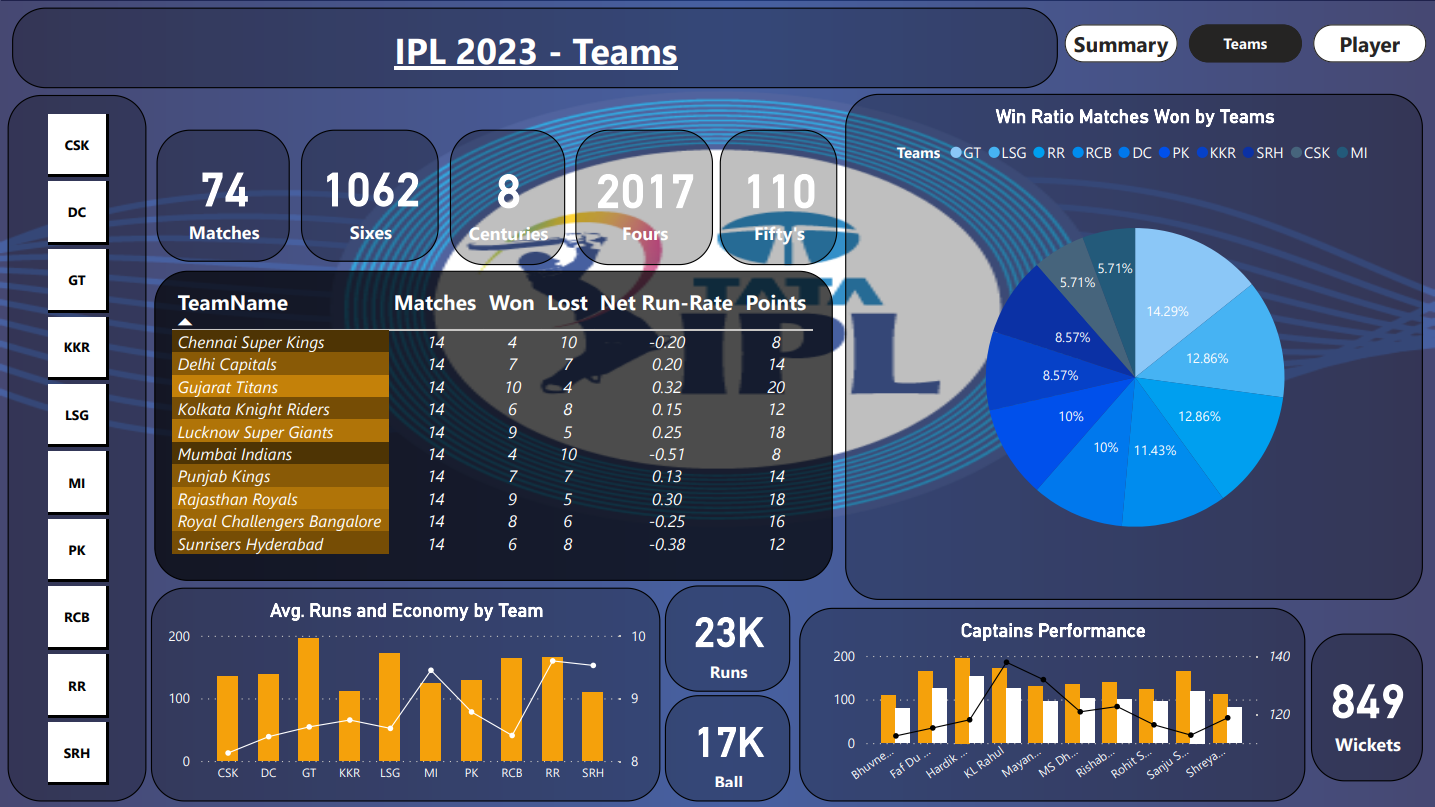

The dashboard page shown, as its layout file describes it:
{"tool":"powerbi","page":{"name":"Teams","canvas":[1280,720],"ordinal":1},"visuals":[{"type":"slicer","fields":{"Values":["16Team.ShortName"]},"box":[6,84.4,124.2,630.8],"z":0},{"type":"card","fields":{"Values":["04BattingSummary.MatchID"]},"box":[139.4,114.9,118.6,118.6],"z":1000},{"type":"card","fields":{"Values":["06BattingStats.Runs"]},"box":[592.9,522,112.5,95.3],"z":2000},{"type":"card","fields":{"Values":["10WicketStats.Wickets"]},"box":[1169.8,564.8,100.2,132],"z":3000},{"type":"card","fields":{"Values":["11RunsStats.6S"]},"box":[267.7,114.9,123.5,118.6],"z":4000},{"type":"card","fields":{"Values":["11RunsStats.4S"]},"box":[513.4,114.9,122.2,121],"z":5000},{"type":"card","fields":{"Values":["11RunsStats.100"]},"box":[401,114.9,102.7,121],"z":6000},{"type":"lineClusteredColumnComboChart","title":"Avg. Runs and Economy by Team","fields":{"Category":["16Team.ShortName"],"Y":["06BattingStats.Runs"],"Y2":["07BowlingStats.Economy"]},"box":[134.5,524.4,454.7,190.7],"z":7000},{"type":"lineClusteredColumnComboChart","title":"Captains Performance","fields":{"Category":["16Team.CaptionName"],"Y":["06BattingStats.Runs","06BattingStats.BallsFaced"],"Y2":["06BattingStats.StrikeRate"]},"box":[712.7,541.5,452.3,173.6],"z":8000},{"type":"pieChart","title":"Win Ratio Matches Won by Teams","fields":{"Category":["15Ranking.ShortName"],"Y":["15Ranking.MatchesWon"]},"box":[754.2,83.1,515.9,452.3],"z":9000},{"type":"tableEx","fields":{"Values":["16Team.TeamName","15Ranking.MatchesPlayed","15Ranking.MatchesWon","15Ranking.MatchesLost","15Ranking.NetRunRate","15Ranking.Points"]},"box":[136.9,240.8,606.3,277.5],"z":10000},{"type":"card","fields":{"Values":["11RunsStats.50"]},"box":[641.8,114.9,105.1,121],"z":11000},{"type":"textbox","box":[9.8,6.1,933.9,72.1],"z":12000},{"type":"card","fields":{"Values":["06BattingStats.BallsFaced"]},"box":[592.9,619.8,112.5,95.3],"z":13000},{"type":"pageNavigator","box":[949.8,20.8,325.2,34.2],"z":14000}]}

Visuals, with their boxes in screenshot pixels (x1, y1, x2, y2), scaled from the page's 1280x720 canvas onto the 1435x807 screenshot:
slicer - 16Team.ShortName: (7, 95, 146, 802)
card - 04BattingSummary.MatchID: (156, 129, 289, 262)
card - 06BattingStats.Runs: (665, 585, 791, 692)
card - 10WicketStats.Wickets: (1311, 633, 1424, 781)
card - 11RunsStats.6S: (300, 129, 439, 262)
card - 11RunsStats.4S: (576, 129, 713, 264)
card - 11RunsStats.100: (450, 129, 565, 264)
"Avg. Runs and Economy by Team" lineClusteredColumnComboChart: (151, 588, 661, 802)
"Captains Performance" lineClusteredColumnComboChart: (799, 607, 1306, 802)
"Win Ratio Matches Won by Teams" pieChart: (846, 93, 1424, 600)
tableEx - 16Team.TeamName x 15Ranking.MatchesPlayed: (153, 270, 833, 581)
card - 11RunsStats.50: (720, 129, 837, 264)
textbox: (11, 7, 1058, 88)
card - 06BattingStats.BallsFaced: (665, 695, 791, 802)
pageNavigator: (1065, 23, 1429, 62)
